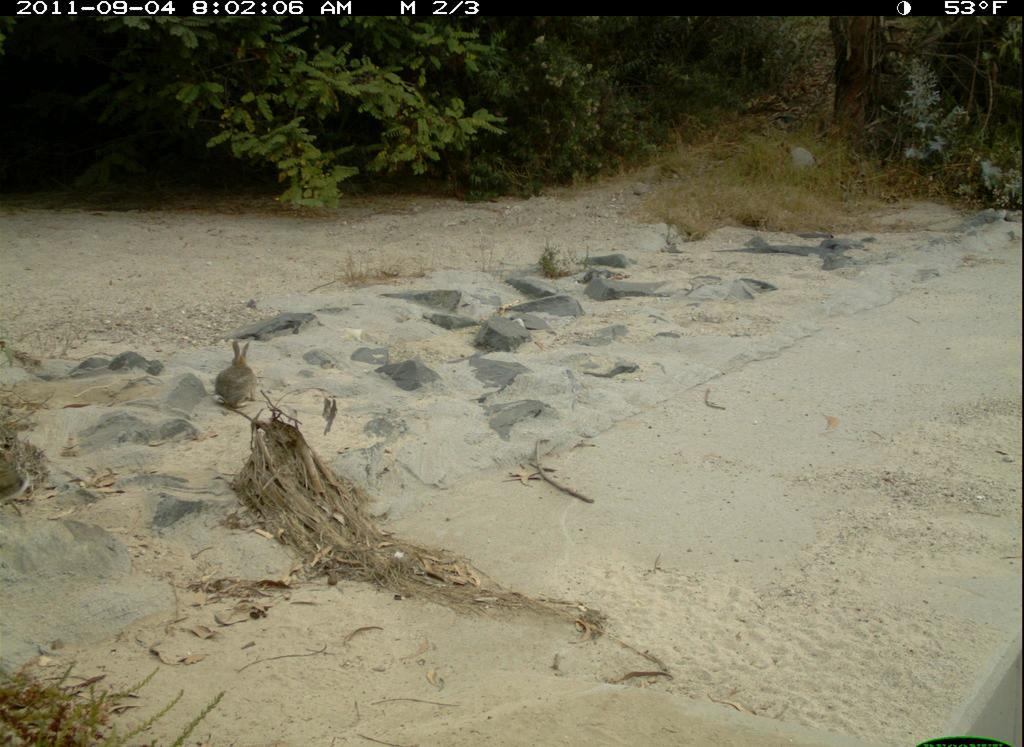rabbit: (204, 336, 264, 413)
